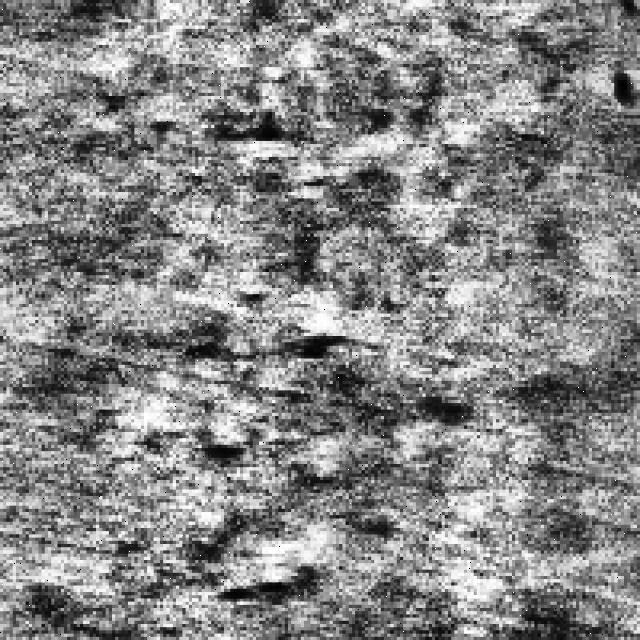Crazing: (160, 406, 384, 608)
